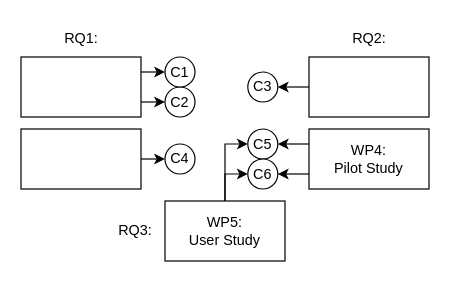
Some shapes in this 450 by 282 pixel diagram are drawn without their labels. Each missing label, with the centre of its shape:
"WP1: Semantic Differencing" goes at [80,86].
"WP2: Benchmarking" goes at [80,158].
"WP3: Data Visualization" goes at [368,86].
